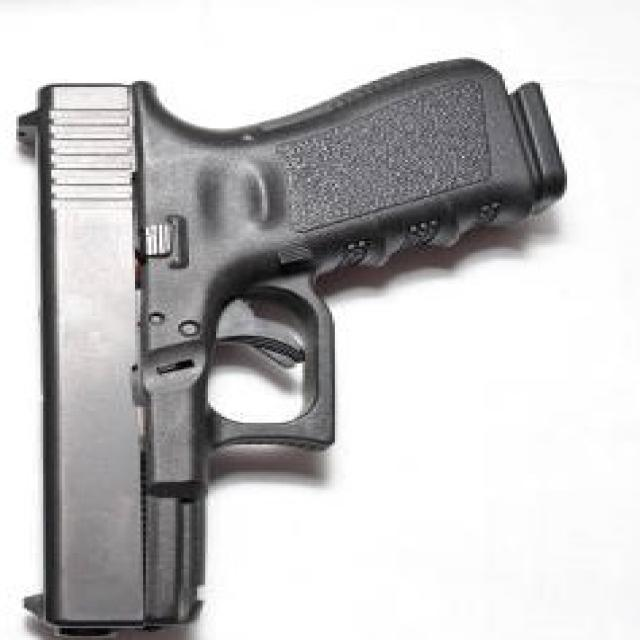pistol: (7, 52, 593, 640)
